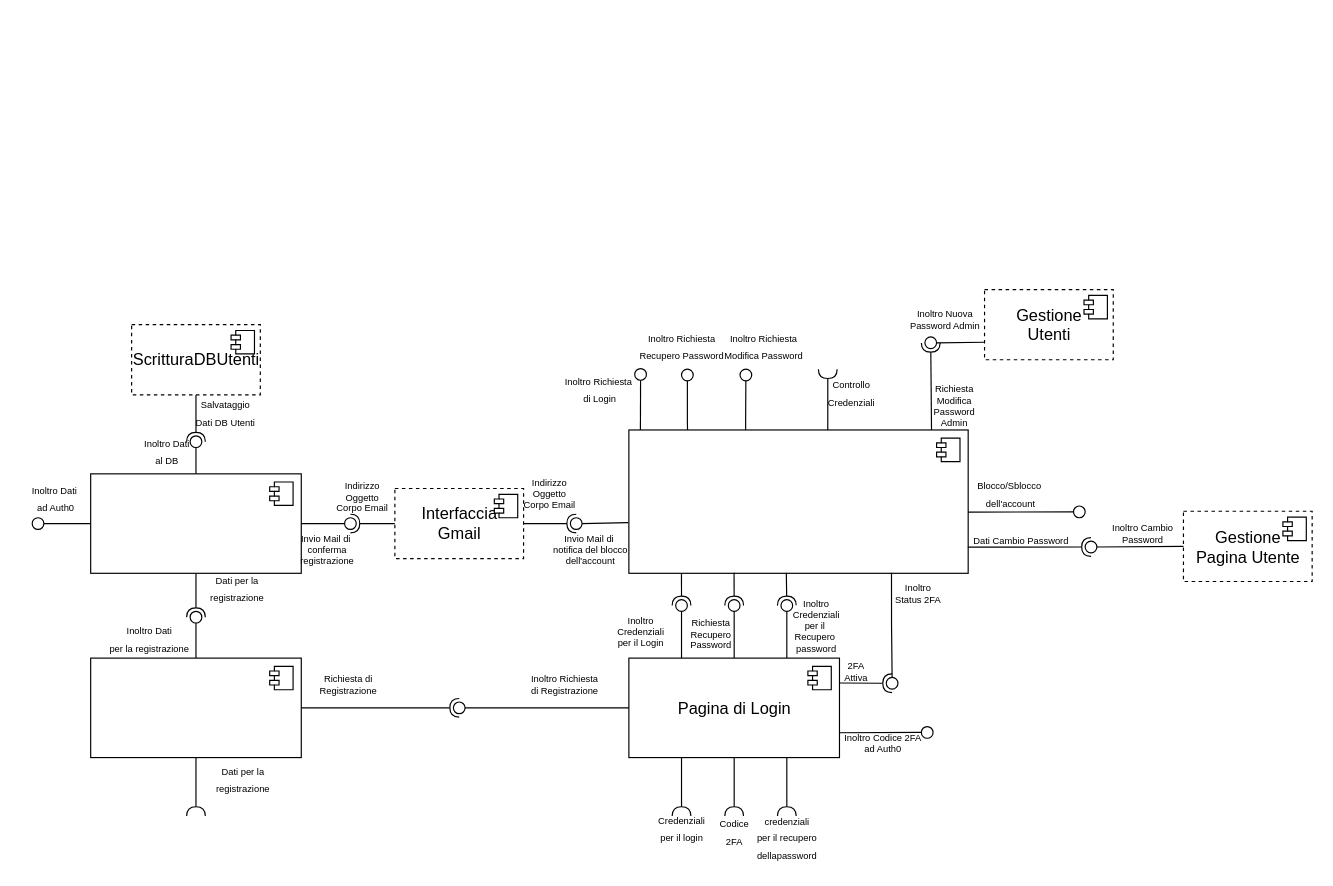
Some shapes in this 1333 by 886 pixel diagram are drawn without their labels. The centre of each missing label's shape, as x and y in pixels:
Gestione Autenticazione: (x=798, y=501)
Gestione Registrazione: (x=195, y=523)
Pagina di Registrazione: (x=195, y=707)
